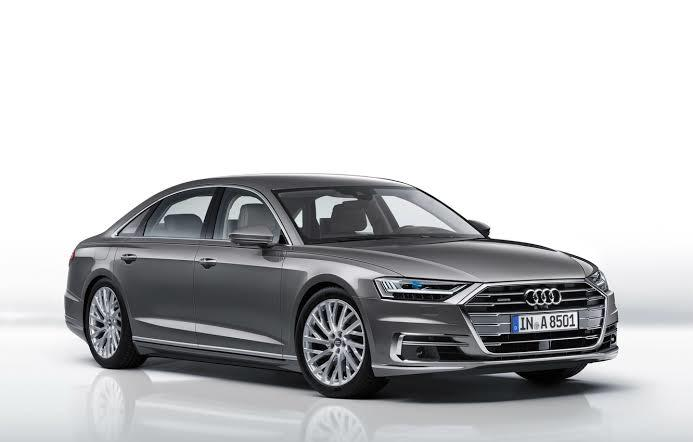audi: (38, 168, 628, 403)
